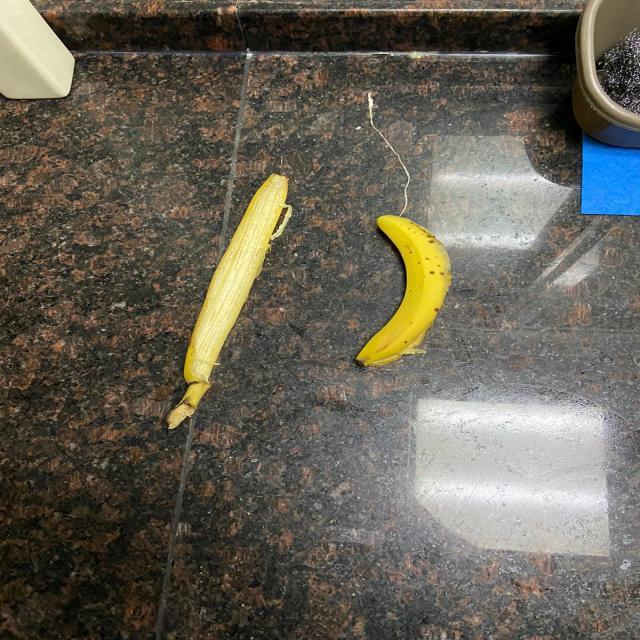banana-peel: (165, 171, 292, 430), (353, 213, 452, 368)
